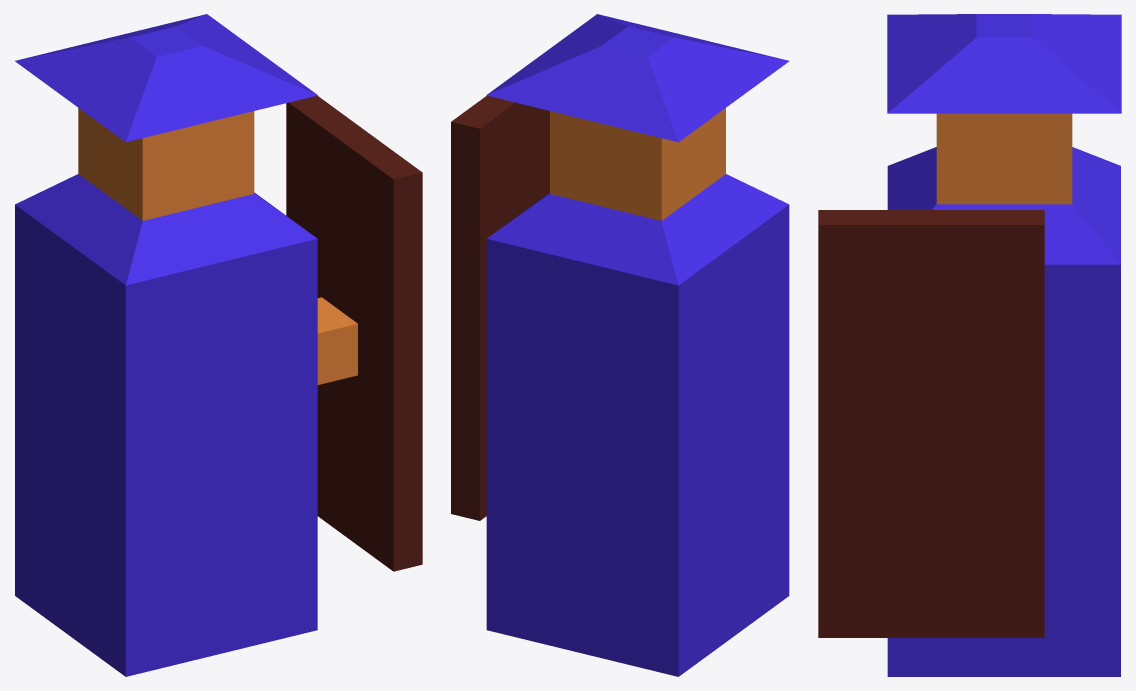
The model's file is LowPolySoldier.glb.
The picture shows the model from 3 angles, left to right: view 1: azimuth 30°, elevation 25°; view 2: azimuth 150°, elevation 25°; view 3: azimuth 270°, elevation 25°; orthographic projection. The views are drawn at different scales.
Parts seen in each view (by area): view 1: Cube; view 2: Cube; view 3: Cube.
Part boxes in pixels (left/top/right/bottom): Cube: left=15, top=14, right=422, bottom=676; Cube: left=451, top=14, right=789, bottom=676; Cube: left=818, top=14, right=1121, bottom=676.
Bounding box in the file's own units: 2.75 × 5.69 × 2.6.
